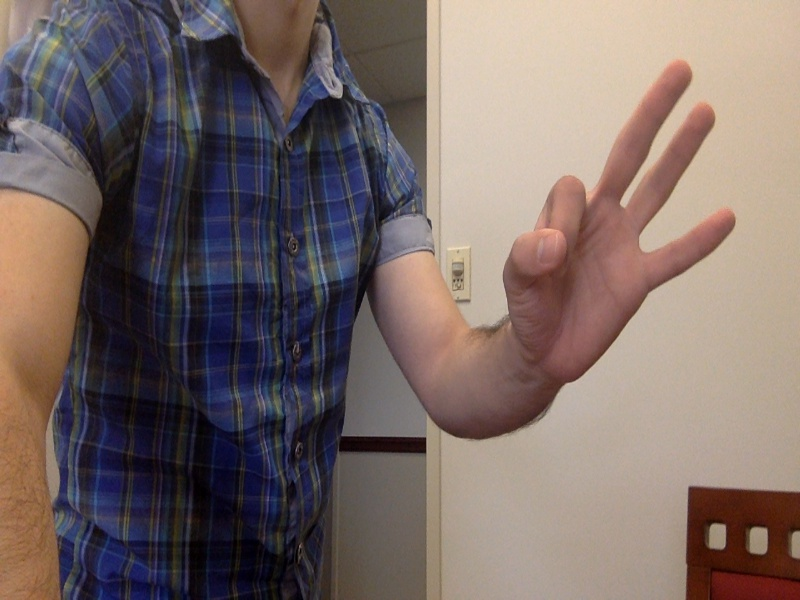3-hand: (501, 58, 736, 380)
